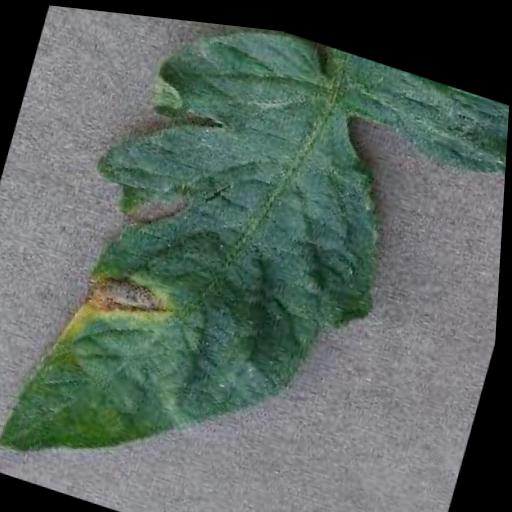Early Blight: (0, 1, 512, 512)
